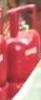cylinder: (1, 0, 41, 100)
